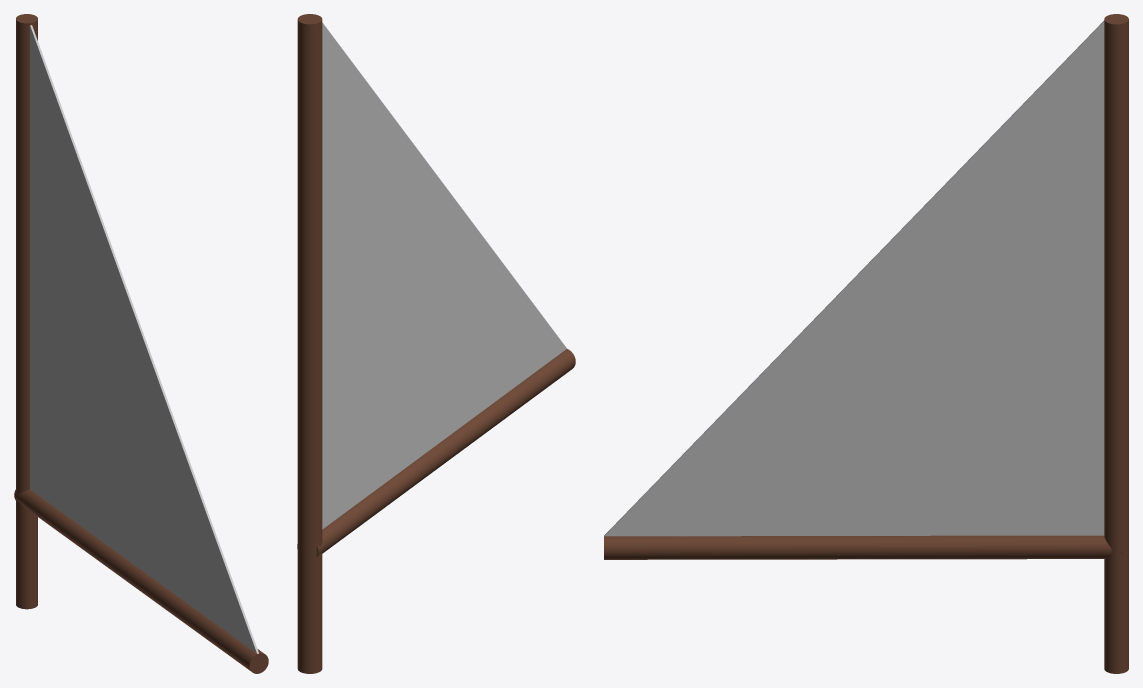
File: kuba_boat_sail.glb
The picture shows the model from 3 angles, left to right: view 1: azimuth 30°, elevation 25°; view 2: azimuth 150°, elevation 25°; view 3: azimuth 270°, elevation 25°; orthographic projection. The views are drawn at different scales.
Visible parts, largest first — view 1: Maszt.001, Maszt; view 2: Maszt.001, Maszt; view 3: Maszt.001, Maszt.
Part boxes in pixels (x1,y1,x2,y2): Maszt.001: [30, 25, 258, 653]; Maszt: [14, 14, 268, 673]; Maszt.001: [322, 22, 566, 529]; Maszt: [297, 14, 575, 673]; Maszt.001: [604, 20, 1104, 536]; Maszt: [604, 14, 1128, 673].
Size of the model in its own units: 0.3082 by 8.23 by 6.03.
